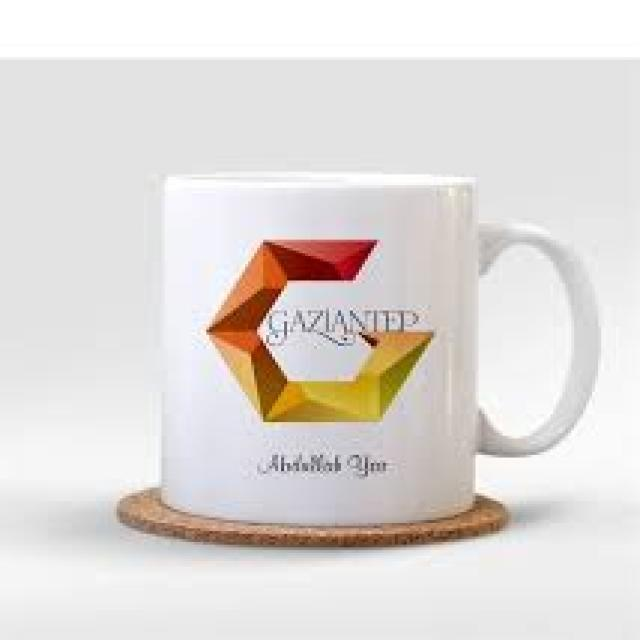taza: (159, 171, 601, 524)
